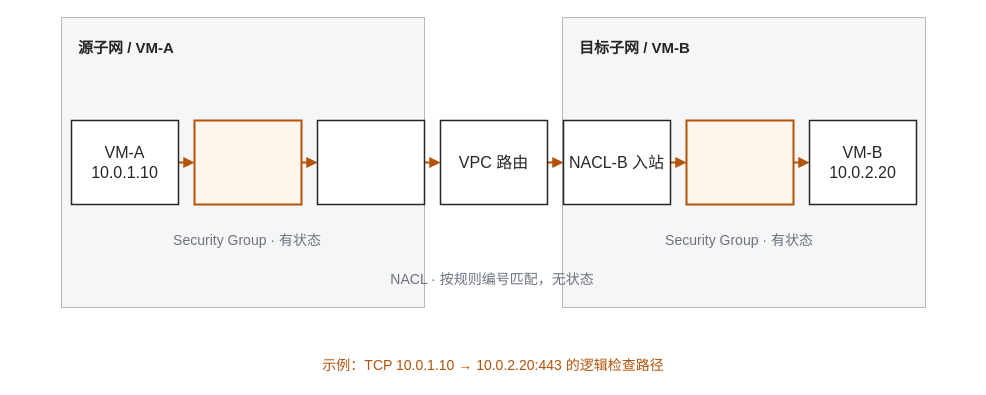
This 986x395 diagram has some shape labels left out. The shapes that lost their labels are listed below. From the top down, each one's centre as x and y in pixels, then its label:
point (247, 162): SG-A 出站
point (370, 162): NACL-A 出站
point (739, 162): SG-B 入站
